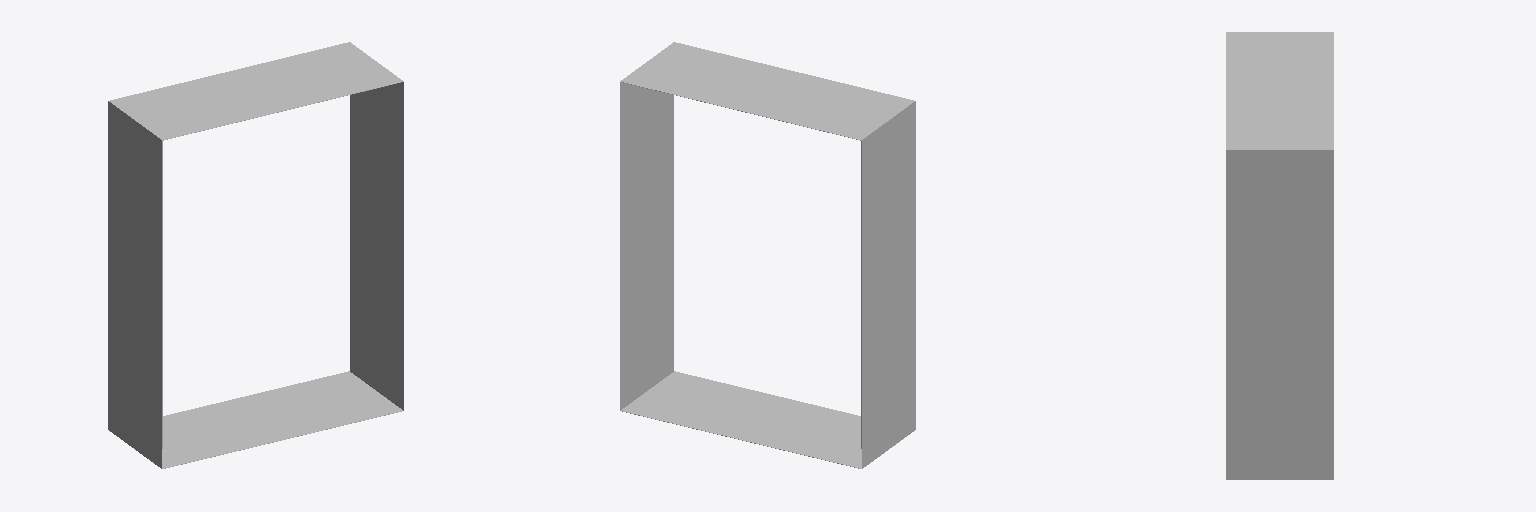
File: arena_wall_brick.obj
3 views of the same model, side by side, from view 1: azimuth 30°, elevation 25°; view 2: azimuth 150°, elevation 25°; view 3: azimuth 270°, elevation 25° (orthographic).
Parts seen in each view (by area): view 1: mesh9, mesh1, mesh10, mesh2, mesh3, mesh4; view 2: mesh9, mesh1, mesh10, mesh2, mesh3, mesh4; view 3: mesh0, mesh1.
Boxes of the visible parts, x1=… form: mesh9: x1=350, y1=82, x2=403, y2=410; mesh1: x1=109, y1=42, x2=403, y2=140; mesh10: x1=162, y1=371, x2=402, y2=468; mesh2: x1=108, y1=101, x2=161, y2=345; mesh3: x1=108, y1=307, x2=161, y2=416; mesh4: x1=108, y1=378, x2=161, y2=468; mesh9: x1=620, y1=82, x2=673, y2=410; mesh1: x1=620, y1=42, x2=914, y2=140; mesh10: x1=621, y1=371, x2=861, y2=468; mesh2: x1=862, y1=101, x2=915, y2=345; mesh3: x1=862, y1=307, x2=915, y2=416; mesh4: x1=862, y1=378, x2=915, y2=468; mesh0: x1=1226, y1=150, x2=1333, y2=479; mesh1: x1=1226, y1=32, x2=1333, y2=149.
Bounding box in the file's own units: 10.31 × 13.43 × 4.